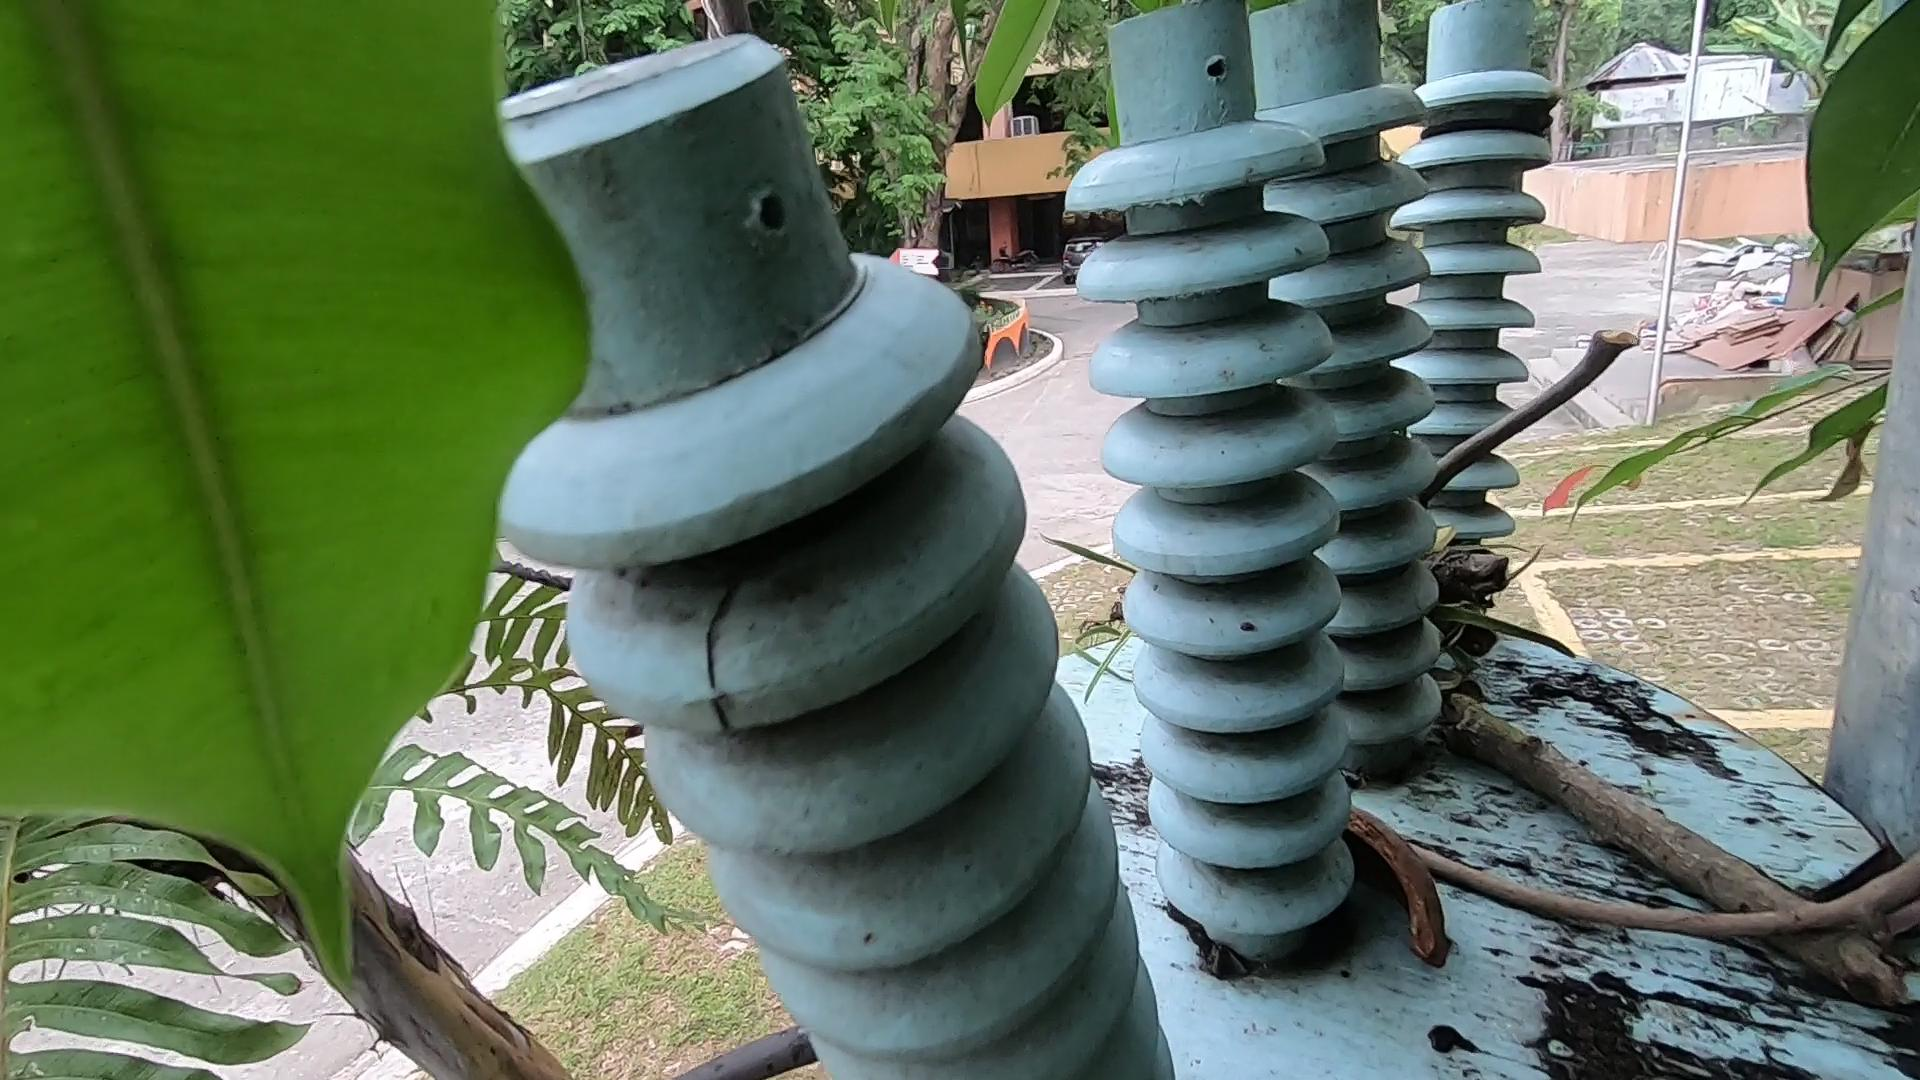branch with leaves: (1424, 593, 1904, 1005)
leaf: (1808, 819, 1920, 982)
mahogany fruit: (1305, 744, 1503, 1048)
tree branch: (1353, 800, 1920, 994), (1422, 219, 1733, 517)
